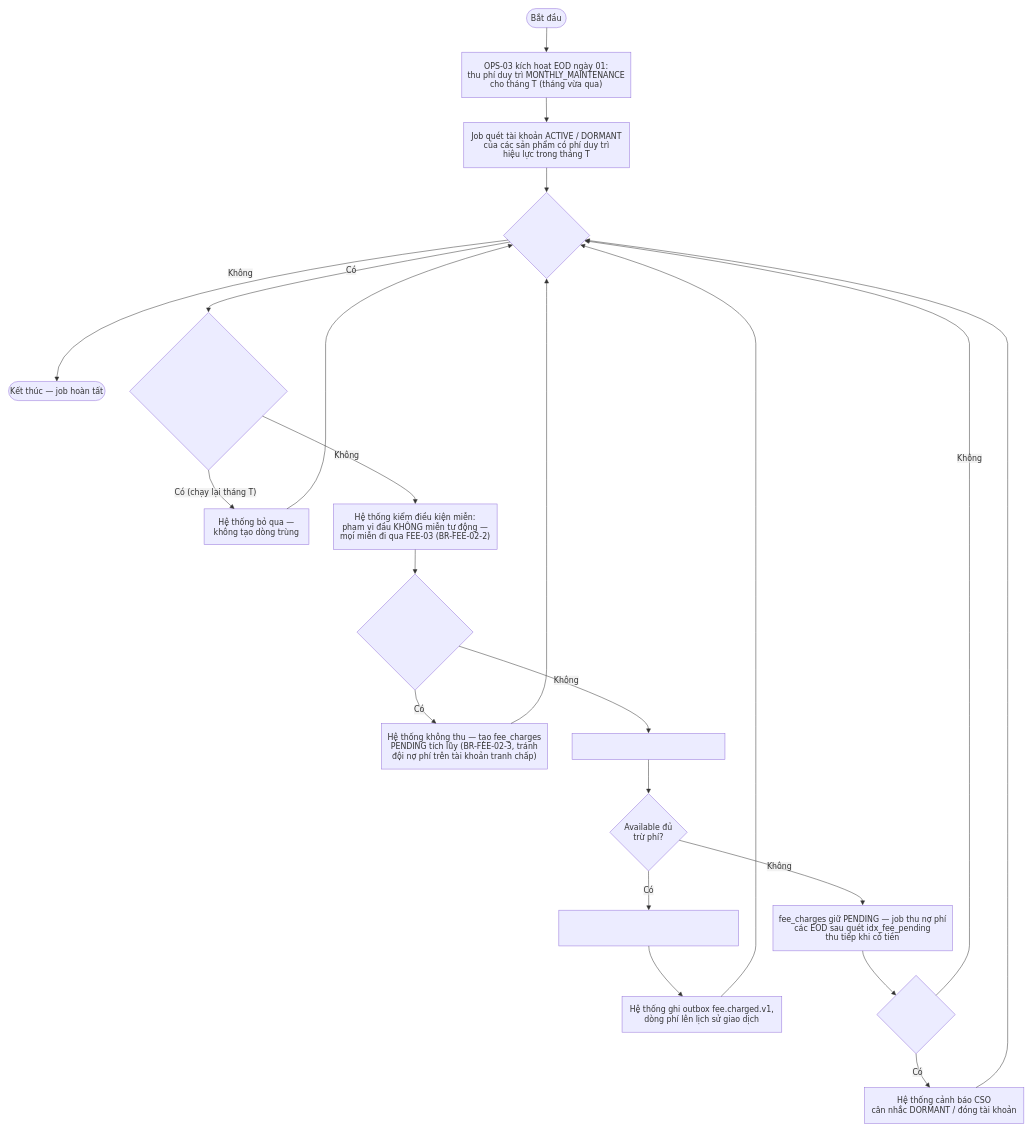
Image size: 1032x1132. Some labels were removed from this diagram. The centre of each missing label's shape, as x and y in pixels:
Bút toán FEE: Nợ TK khách / Có GL FEE_INCOME → fee_charges POSTED: point (648, 928)
Còn tài khoản chưa xử lý?: point (546, 235)
Hệ thống tạo fee_charges cho kỳ T: point (648, 746)
Nợ phí treo quá 3 tháng?: point (915, 1014)
Tài khoản FROZEN?: point (414, 632)
Đã có fee_charge (account, fee_code, kỳ T)?: point (208, 391)
